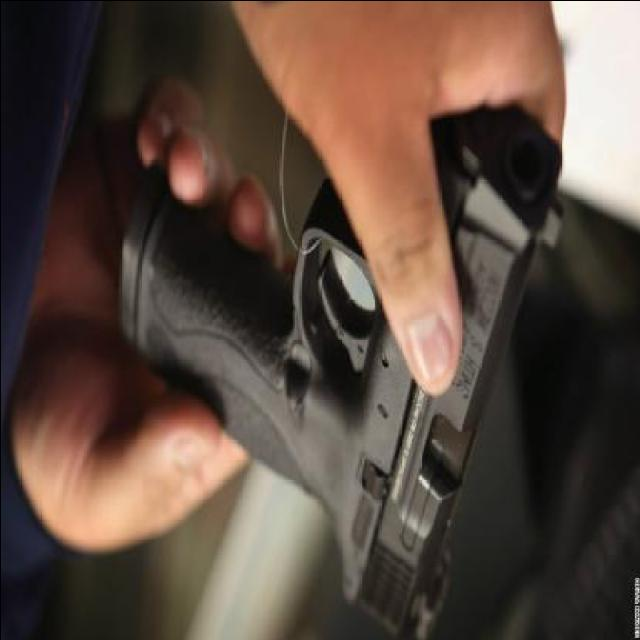pistol: (117, 105, 565, 639)
